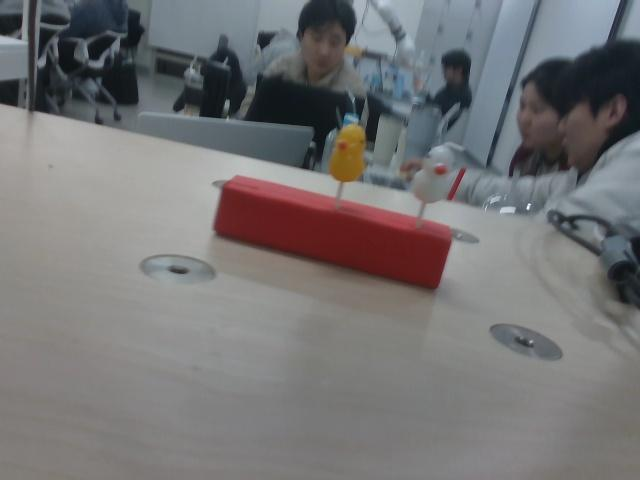w_duck: (407, 142, 460, 206)
y_duck: (325, 123, 369, 185)
